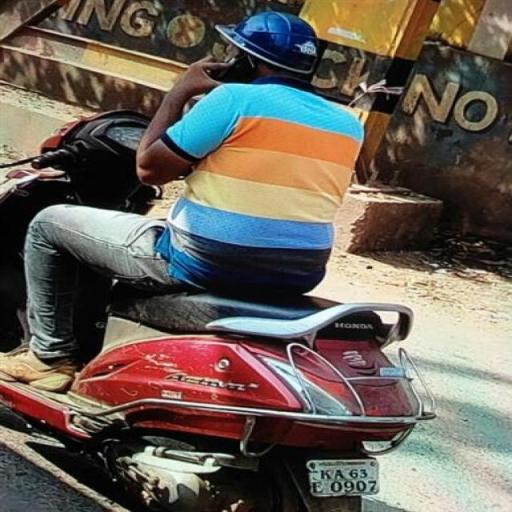numberplate: (306, 459, 380, 498)
using mobile: (180, 50, 267, 88)
